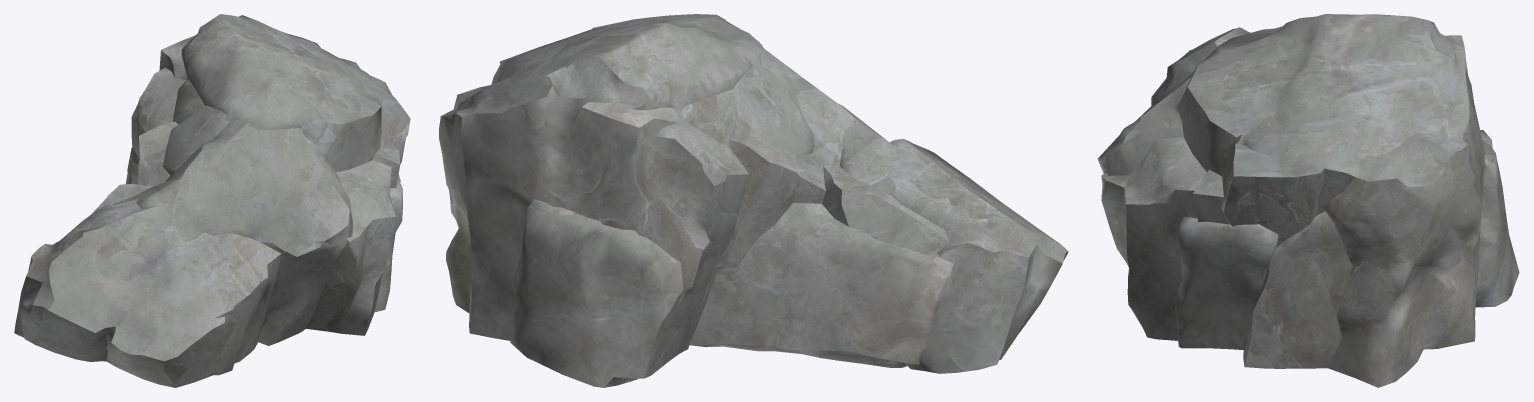
Rendered from SM_Com_Roc_80AL.fbx.
The picture shows the model from 3 angles, left to right: view 1: azimuth 30°, elevation 25°; view 2: azimuth 150°, elevation 25°; view 3: azimuth 270°, elevation 25°; orthographic projection. The views are drawn at different scales.
Visible parts, largest first — view 1: SM_Com_Roc_80AL.mo; view 2: SM_Com_Roc_80AL.mo; view 3: SM_Com_Roc_80AL.mo.
Boxes of the visible parts, x1,y1,x2,y2 form: SM_Com_Roc_80AL.mo: [14, 14, 410, 387]; SM_Com_Roc_80AL.mo: [439, 14, 1068, 387]; SM_Com_Roc_80AL.mo: [1097, 14, 1519, 387].
Size of the model in its own units: 224 by 129 by 163.
